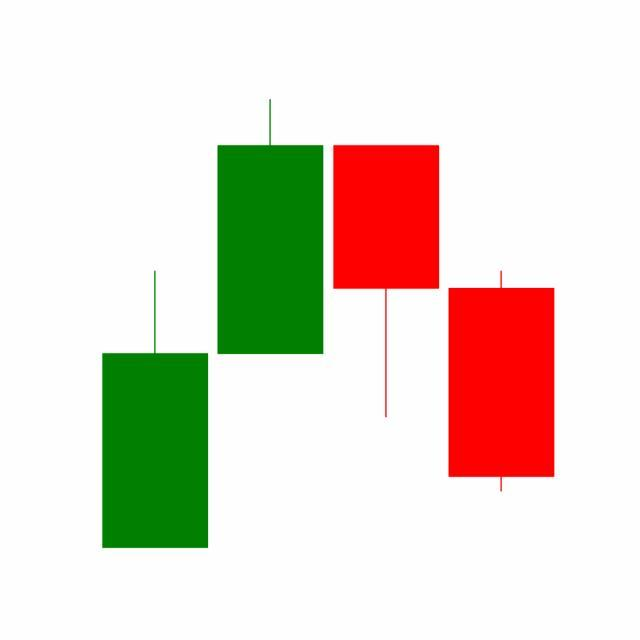Marubozu: (444, 269, 560, 495)
